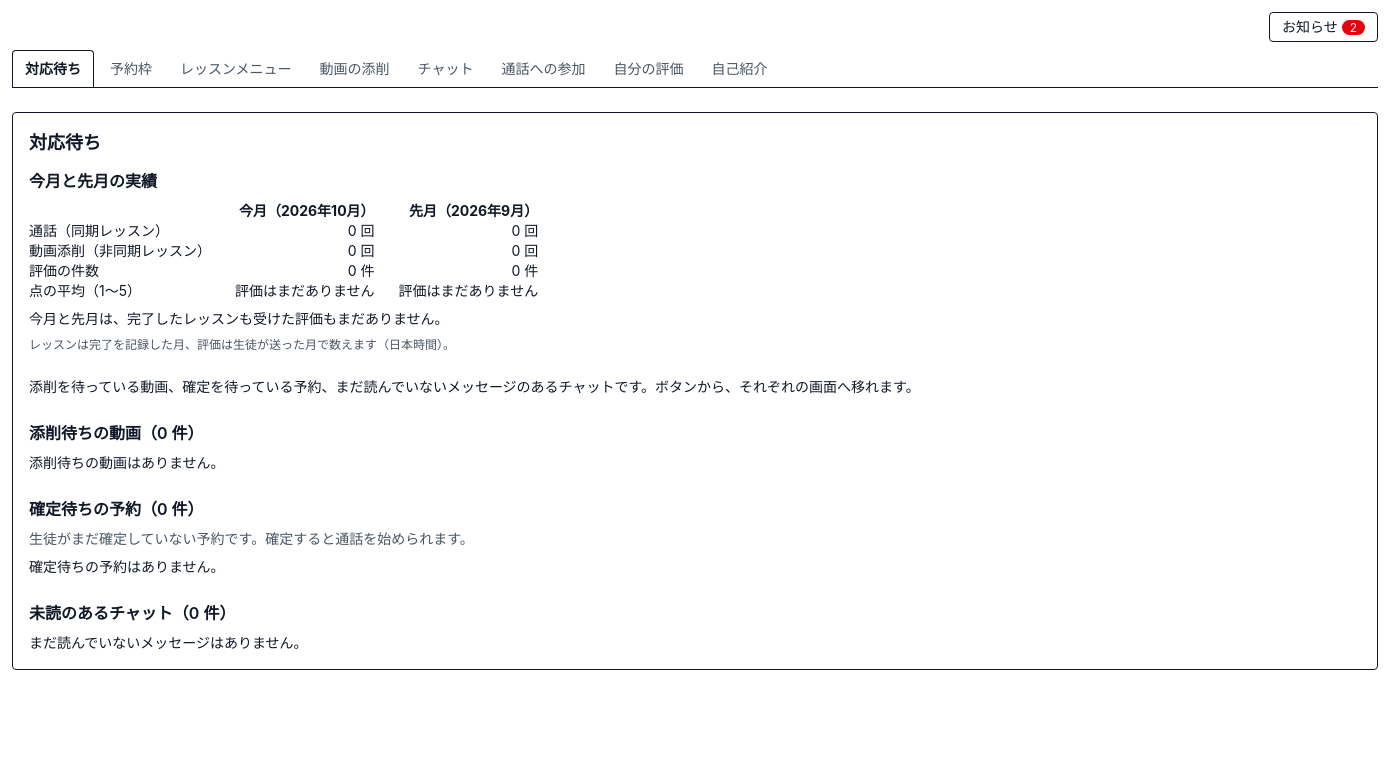
it: コーチのお知らせ › 押すと一覧を新しい順に出し、開いたときに未読だったものに「新着」と添えて、すべて既読にする
Step 1. Click the button "お知らせ2" → (1323, 27), box [1269,12,1378,42]
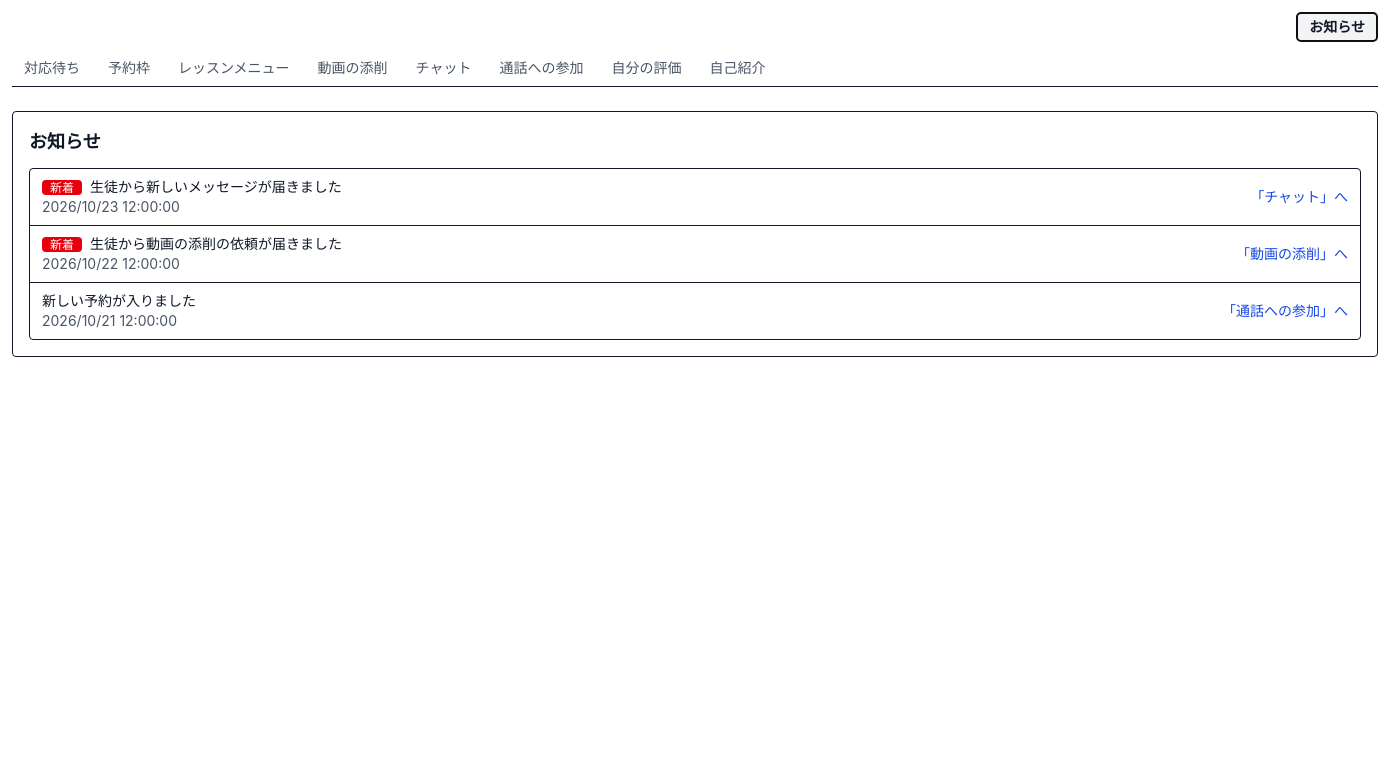
Now the number of list items is 3, box [30,169,1360,226]; [30,226,1360,283]; [30,283,1360,339]
Now the list item that starts with "生徒から新しいメッセージが届きました" is shown, box [30,169,1360,225]
Now the list item that starts with "生徒から動画の添削の依頼が届きました" is shown, box [30,226,1360,282]
